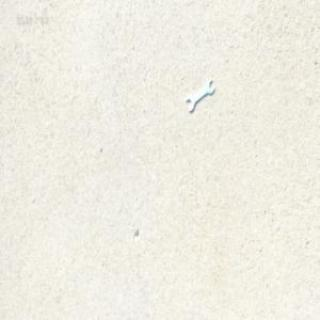Wrenchtrack_idkeyframe: (185, 77, 214, 112)
